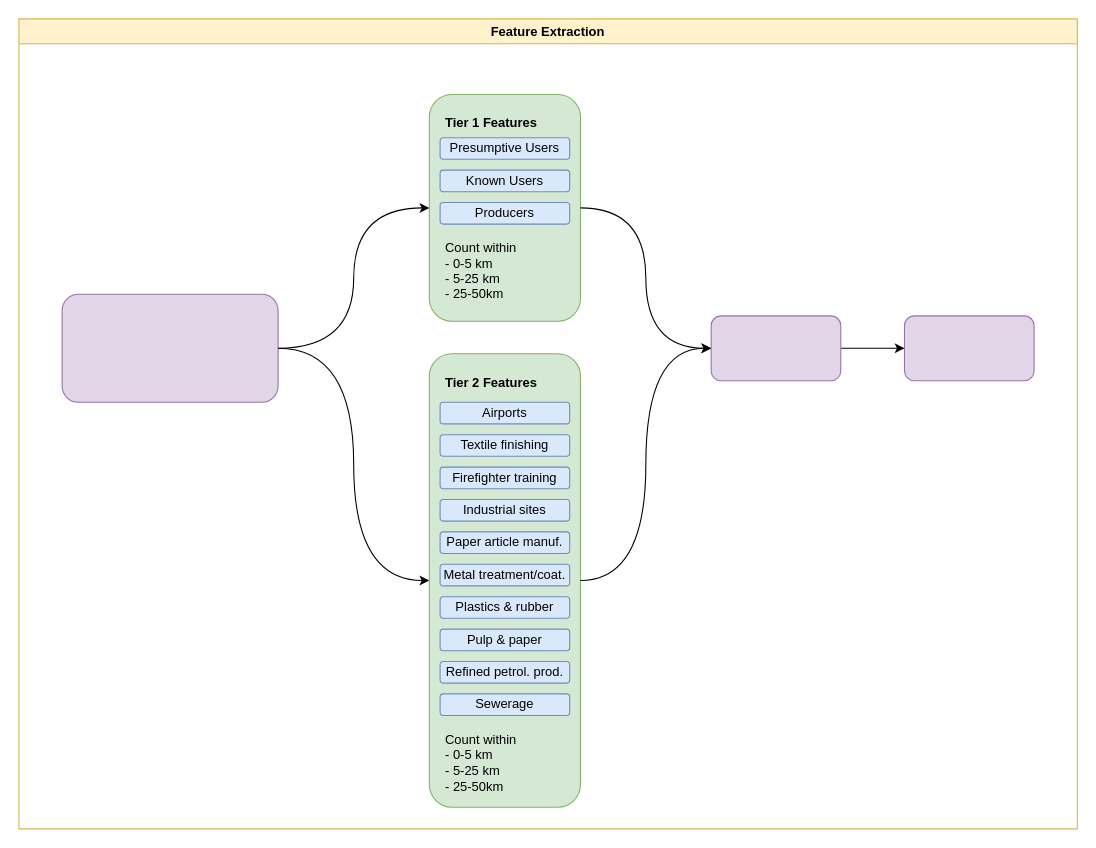
Image size: 1096x848. Some labels were removed from this diagram. The centre of each missing label's shape, as x and y in pixels:
Clean Up Drop rows with: - missing dates (0.15%) - missing coordinates (~30%): point (169, 347)
Compression: point (968, 348)
Merge: point (775, 348)
